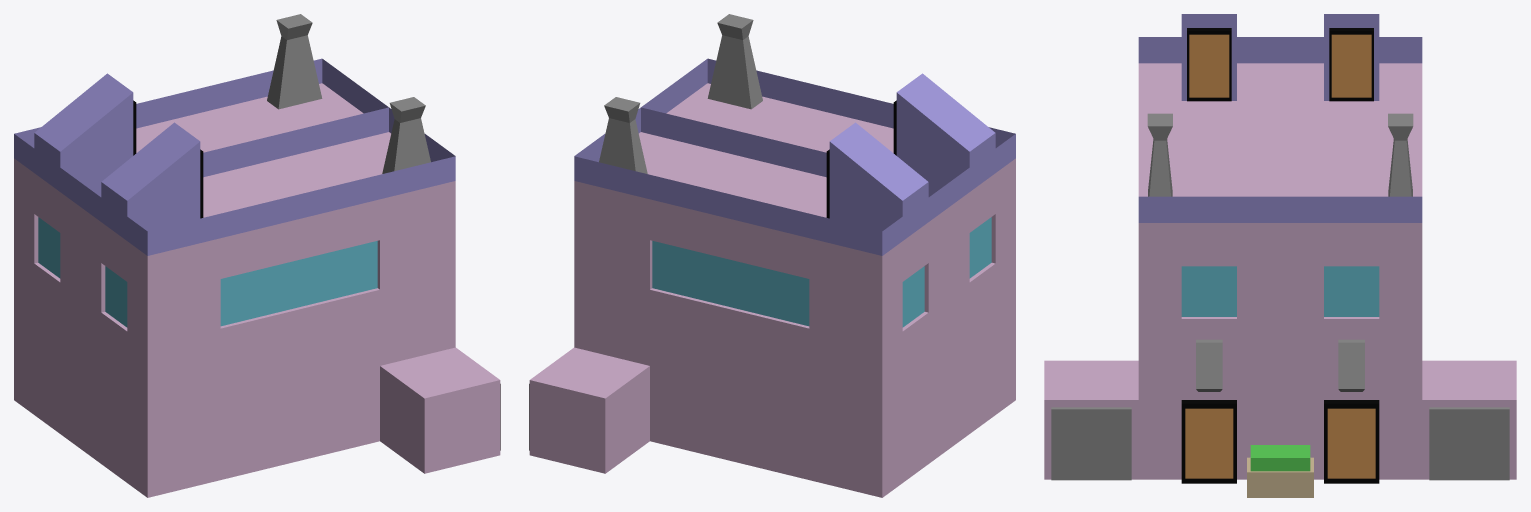
The model's file is TownHomes01.fbx.
3 renders of one model, left to right at view 1: azimuth 30°, elevation 25°; view 2: azimuth 150°, elevation 25°; view 3: azimuth 270°, elevation 25°, orthographic. The views are drawn at different scales.
Visible parts, largest first — view 1: Cube; view 2: Cube; view 3: Cube.
Boxes of the visible parts, x1,y1,x2,y2 form: Cube: (14,14,500,497); Cube: (529,14,1015,497); Cube: (1044,14,1516,497).
Size of the model in its own units: 892 by 803 by 1000.
